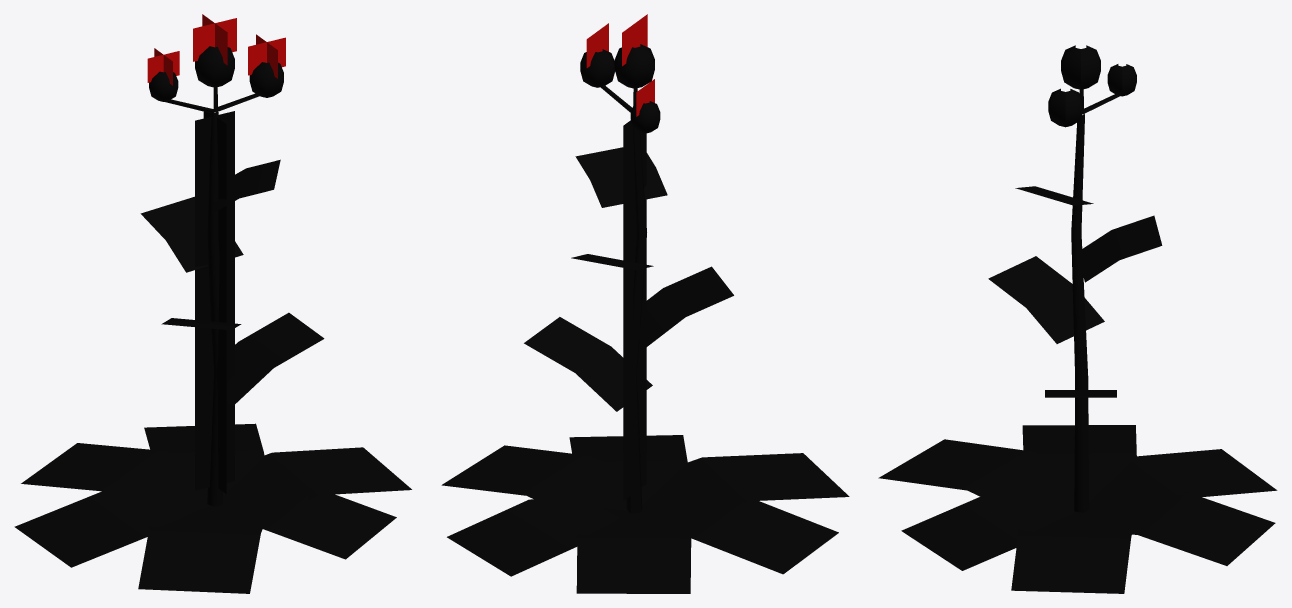
The model's file is thistle.glb.
The picture shows the model from 3 angles, left to right: view 1: azimuth 30°, elevation 25°; view 2: azimuth 150°, elevation 25°; view 3: azimuth 270°, elevation 25°; orthographic projection.
Visible parts, largest first — view 1: lod0; view 2: lod0; view 3: lod0.
Part boxes in pixels (x1,y1,x2,y2): lod0: (14,14,411,593); lod0: (441,14,849,593); lod0: (878,45,1277,593).
Size of what is drawn, in the model's own units: 0.7762 by 1.05 by 0.7754.
